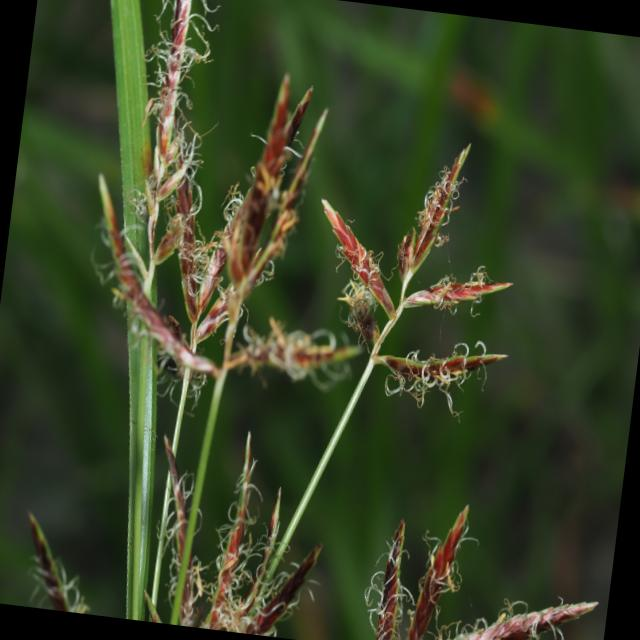cyperus: (49, 0, 640, 640), (76, 0, 541, 429), (129, 419, 355, 640), (351, 479, 604, 640)
